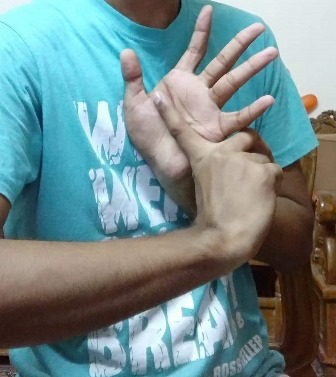oo: (120, 10, 282, 221)
